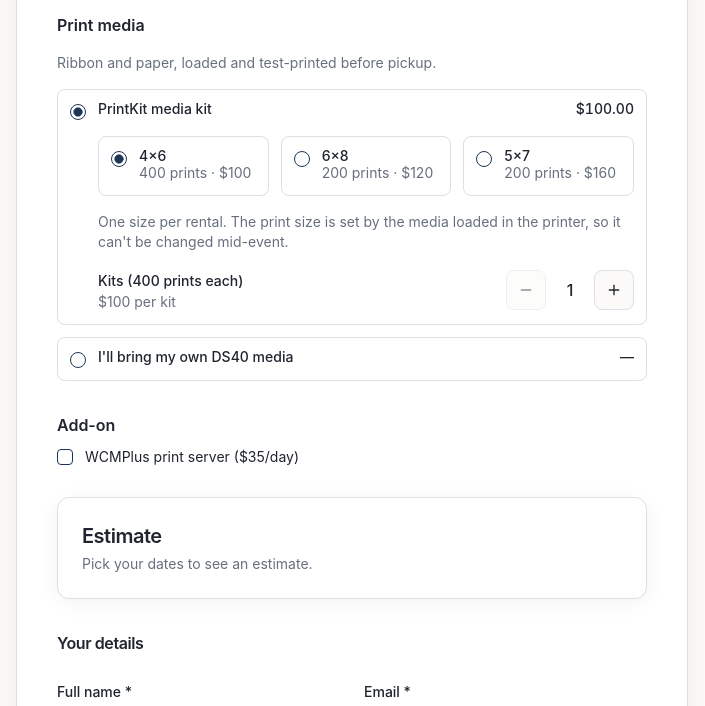
Test case: RequestForm › drops the media controls when bringing your own media
(page scrolled)
Step 1. Click the radio button named "bring my own DS40 media" next to "I'll bring my own DS40 media" → (78, 360), box [70,352,86,368]
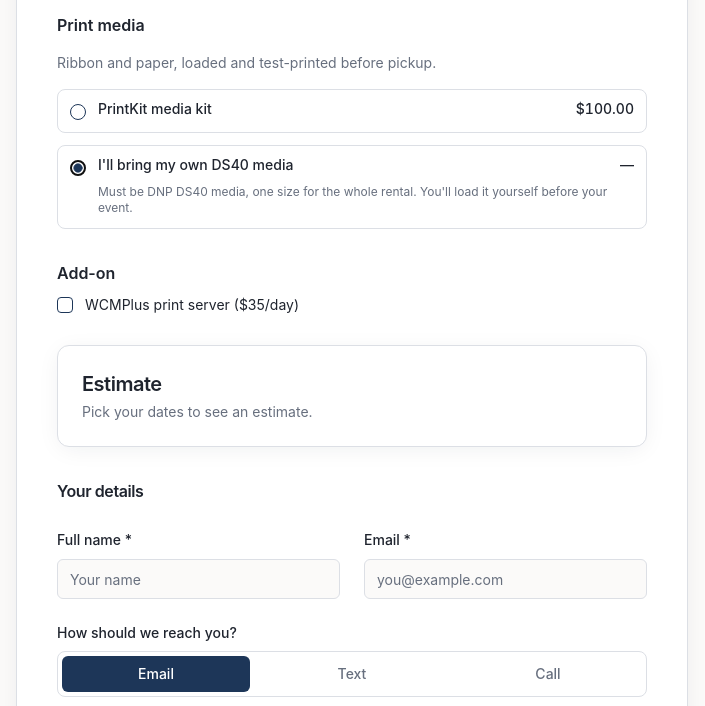
Expected: the text "Must be DNP DS40 media, one size for the whole rental. You'll load it yourself before your event." is shown, [98,184,607,215]
